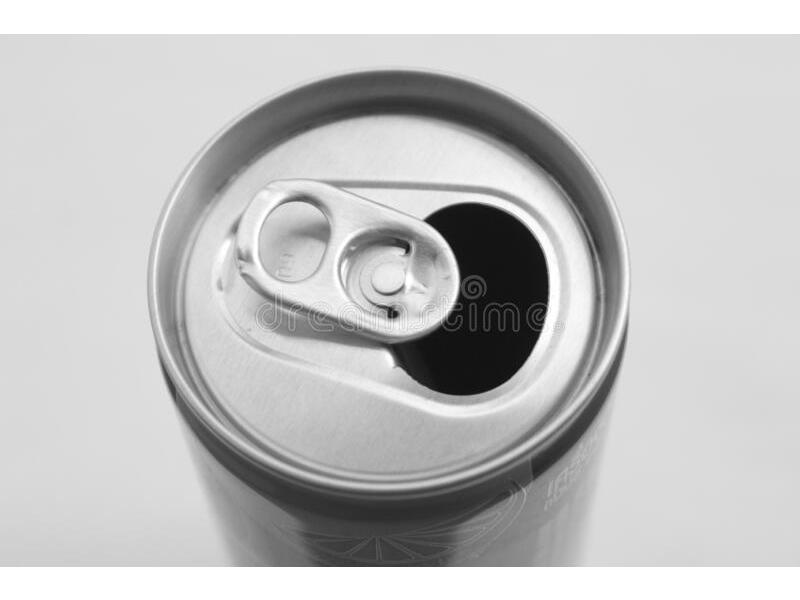can: (138, 54, 634, 570)
